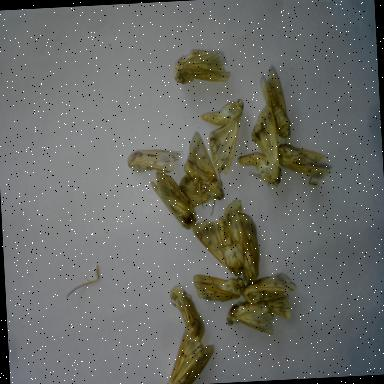abw: (188, 196, 251, 282), (231, 96, 286, 192), (173, 128, 229, 222), (194, 93, 252, 179), (161, 318, 220, 384), (254, 61, 298, 146), (146, 166, 198, 236), (270, 138, 336, 192), (239, 268, 300, 326), (170, 40, 237, 91), (228, 205, 266, 286), (166, 280, 209, 348), (221, 292, 278, 342), (124, 140, 185, 180), (190, 266, 248, 308)
